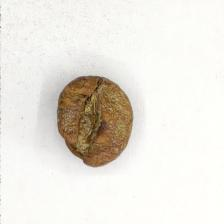NG: (63, 81, 126, 164)
